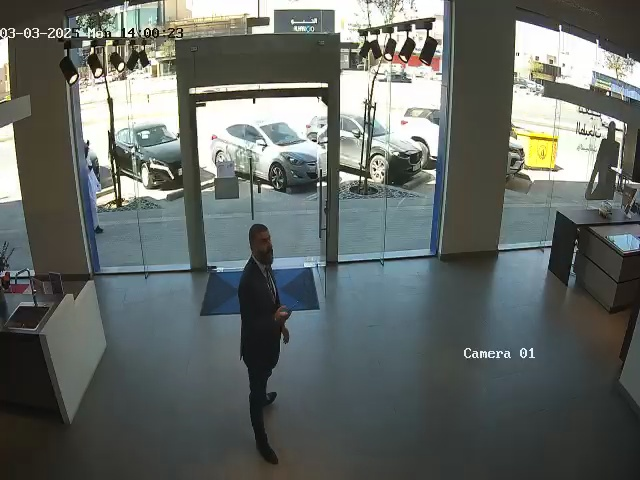employee: (238, 223, 291, 466)
female: (84, 140, 104, 234)
other: (581, 111, 626, 207)
